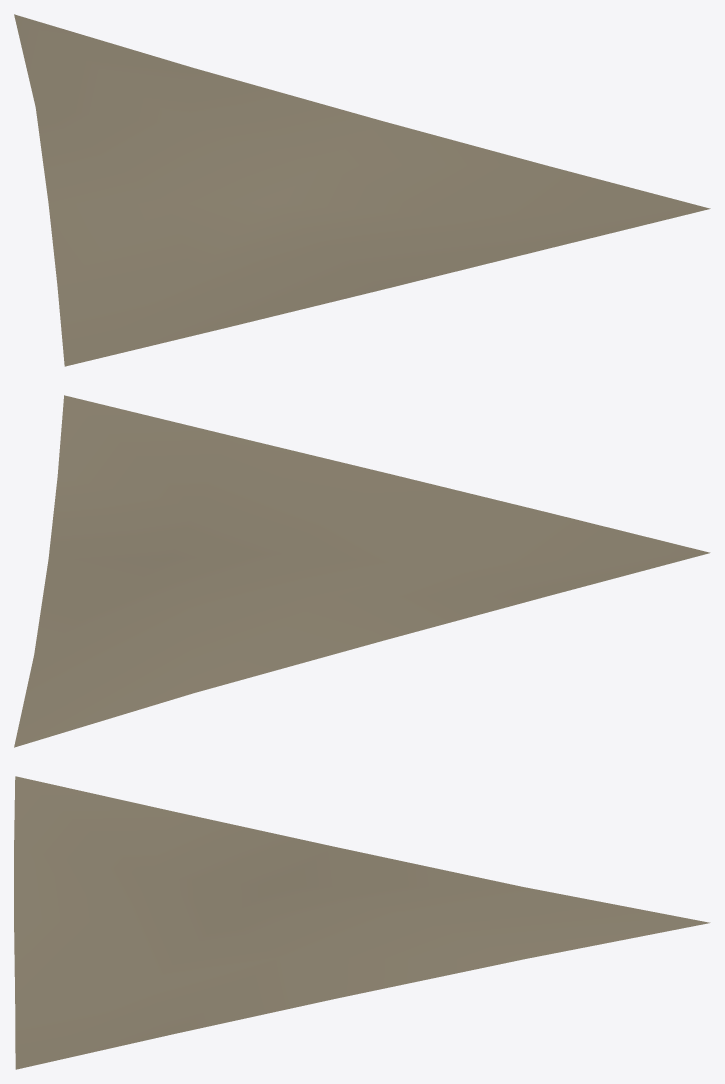
The model's file is savHubTent3.fbx.
3 views of the same model, one above another, from view 1: azimuth 30°, elevation 25°; view 2: azimuth 150°, elevation 25°; view 3: azimuth 270°, elevation 25° (orthographic). The views are drawn at different scales.
Visible parts, largest first — view 1: savHubTent3_LOD0; view 2: savHubTent3_LOD0; view 3: savHubTent3_LOD0.
Part boxes in pixels (x1,y1,x2,y2): savHubTent3_LOD0: (14,14,710,366); savHubTent3_LOD0: (14,395,710,747); savHubTent3_LOD0: (14,776,710,1069).
Size of what is drawn, in the model's own units: 536 by 19.41 by 538.
